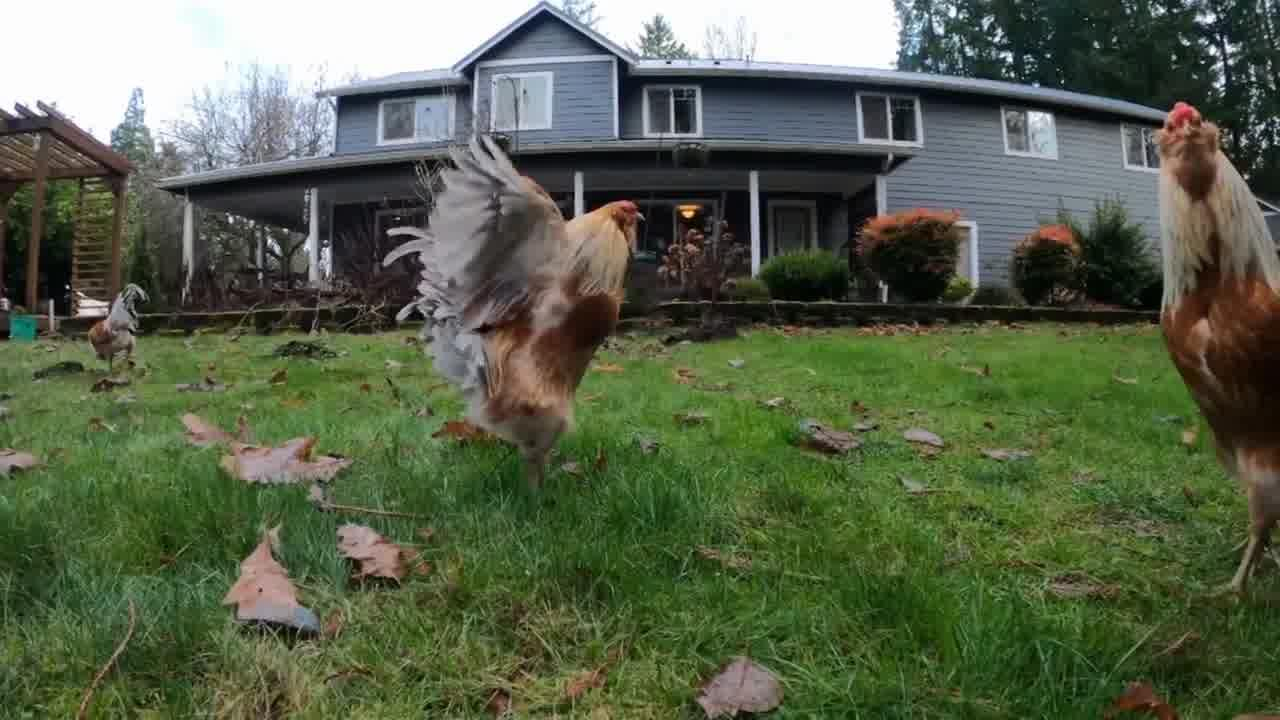Normal: (414, 132, 658, 504), (1136, 94, 1280, 596)
